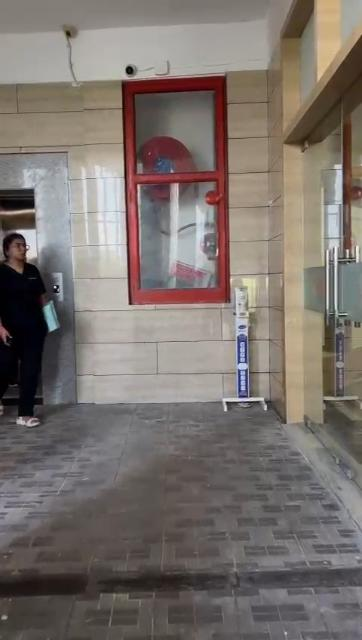door: (298, 150, 360, 424)
floor: (3, 404, 362, 632)
moving-obj: (1, 221, 73, 449)
wall: (88, 320, 224, 398), (76, 144, 124, 326), (232, 84, 274, 282), (4, 92, 124, 150)
